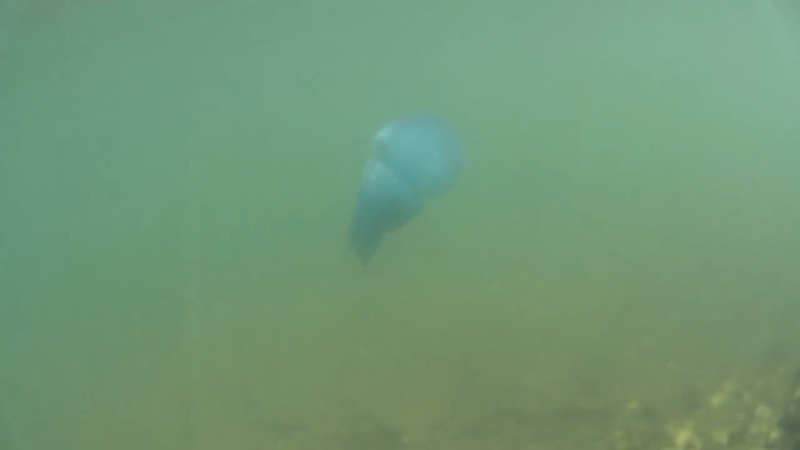blue jellyfish: (339, 112, 468, 270)
